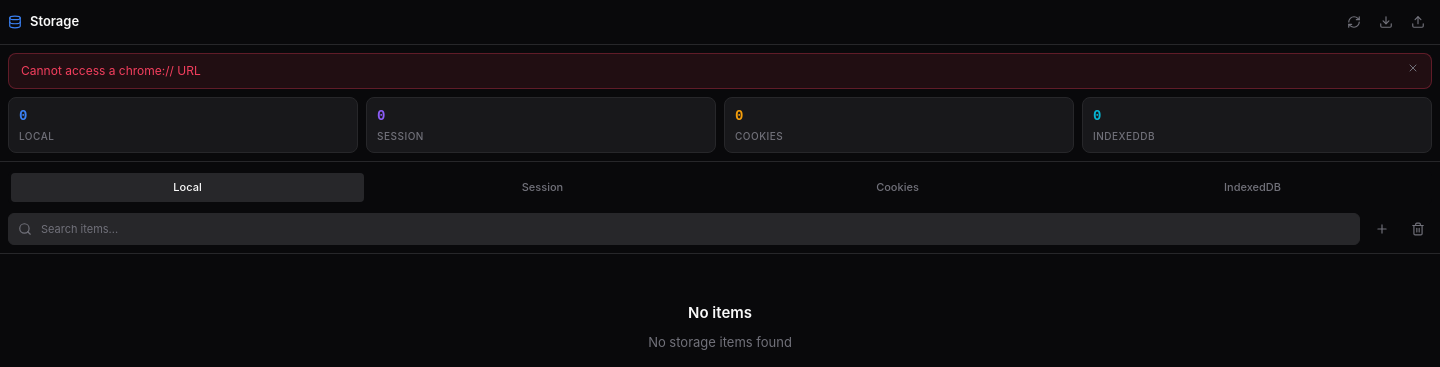
Test: StorageTab › surfaces a failed load in an error banner that can be dismissed
Expected: the message reads "Cannot access a chrome:// URL", [21,63,201,78]
Click the button named "Dismiss error" at x=1413, y=68, box [1407,62,1419,74]
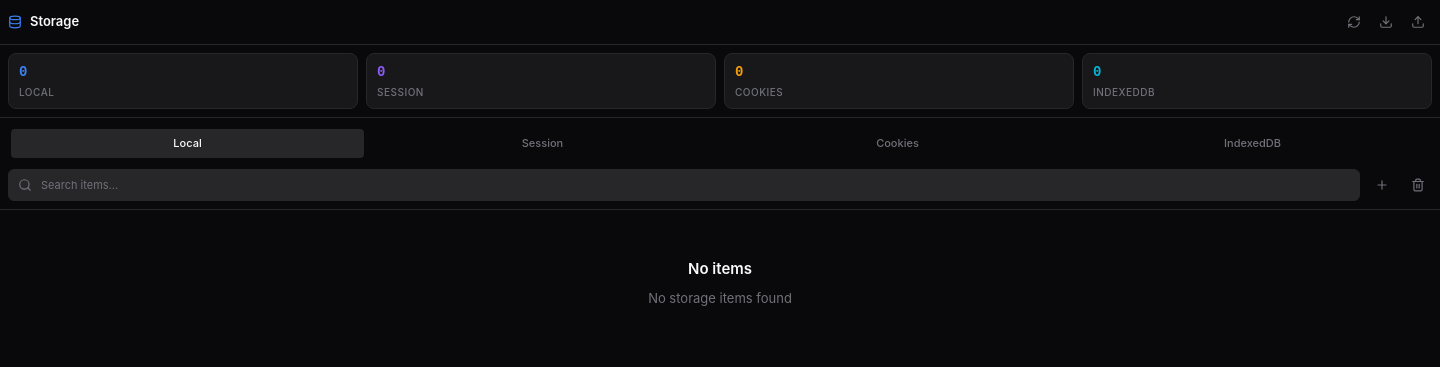
Result: the message "Cannot access a chrome:// URL" is gone
